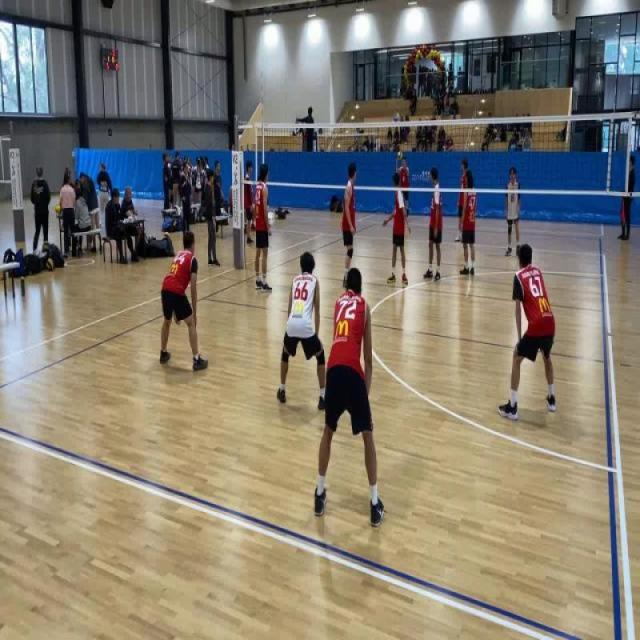volleyball: (46, 257, 54, 272), (396, 150, 404, 162), (55, 203, 61, 214), (163, 230, 170, 238), (148, 234, 153, 240)
